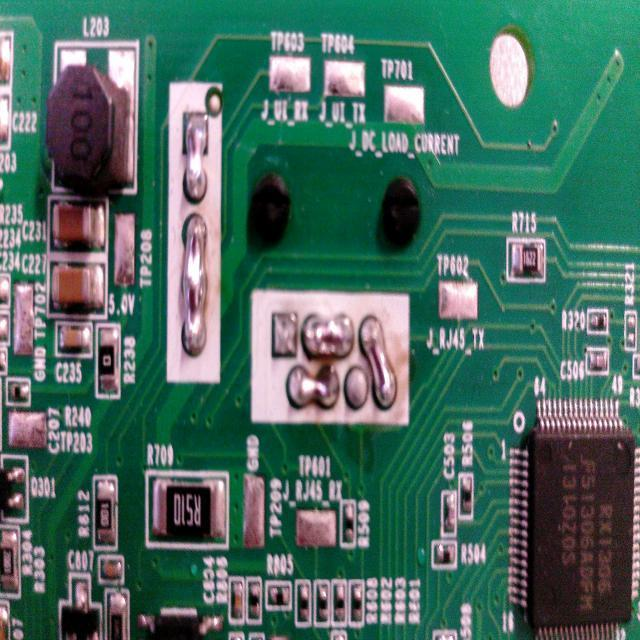Soldering shorted: (179, 208, 214, 359), (360, 301, 400, 409), (280, 364, 344, 416), (302, 311, 354, 364), (183, 108, 209, 205)
